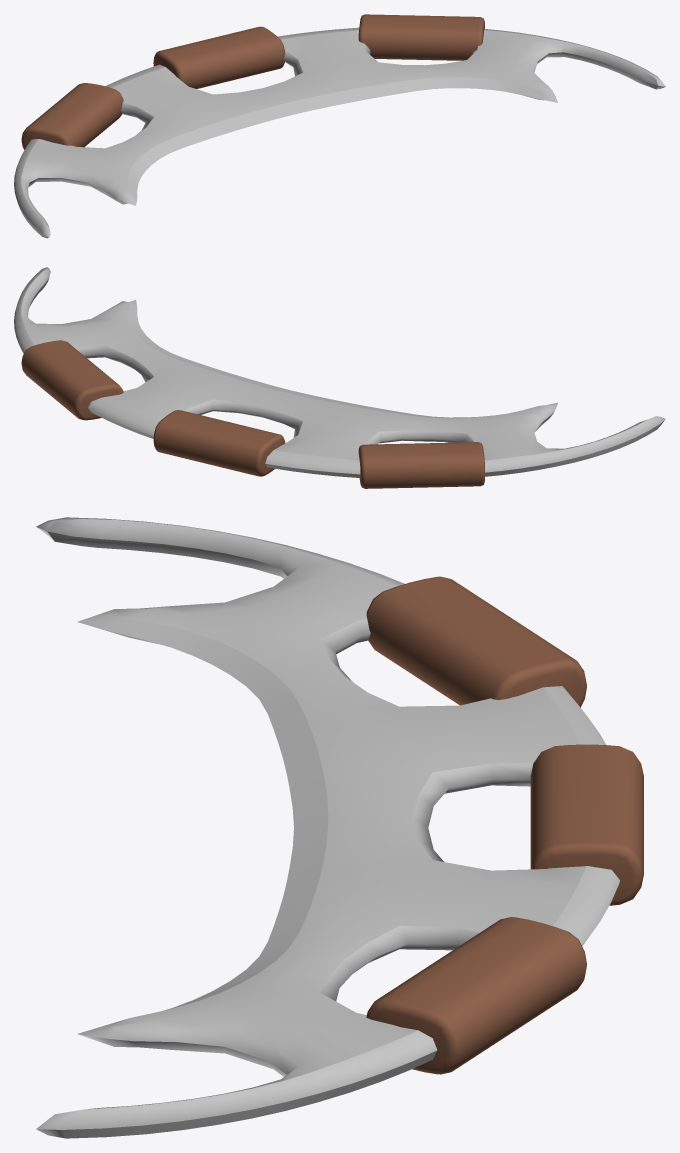
File: BatLeth.fbx
3 views of the same model, one above another, from view 1: azimuth 30°, elevation 25°; view 2: azimuth 150°, elevation 25°; view 3: azimuth 270°, elevation 25° (orthographic). The views are drawn at different scales.
Visible parts, largest first — view 1: pCylinder5; view 2: pCylinder5; view 3: pCylinder5.
Part boxes in pixels (x1=…): pCylinder5: x1=14, y1=14, x2=665, y2=238; pCylinder5: x1=14, y1=267, x2=665, y2=488; pCylinder5: x1=36, y1=517, x2=643, y2=1138.
Bounding box in the file's own units: 75.65 × 3.74 × 32.19.
